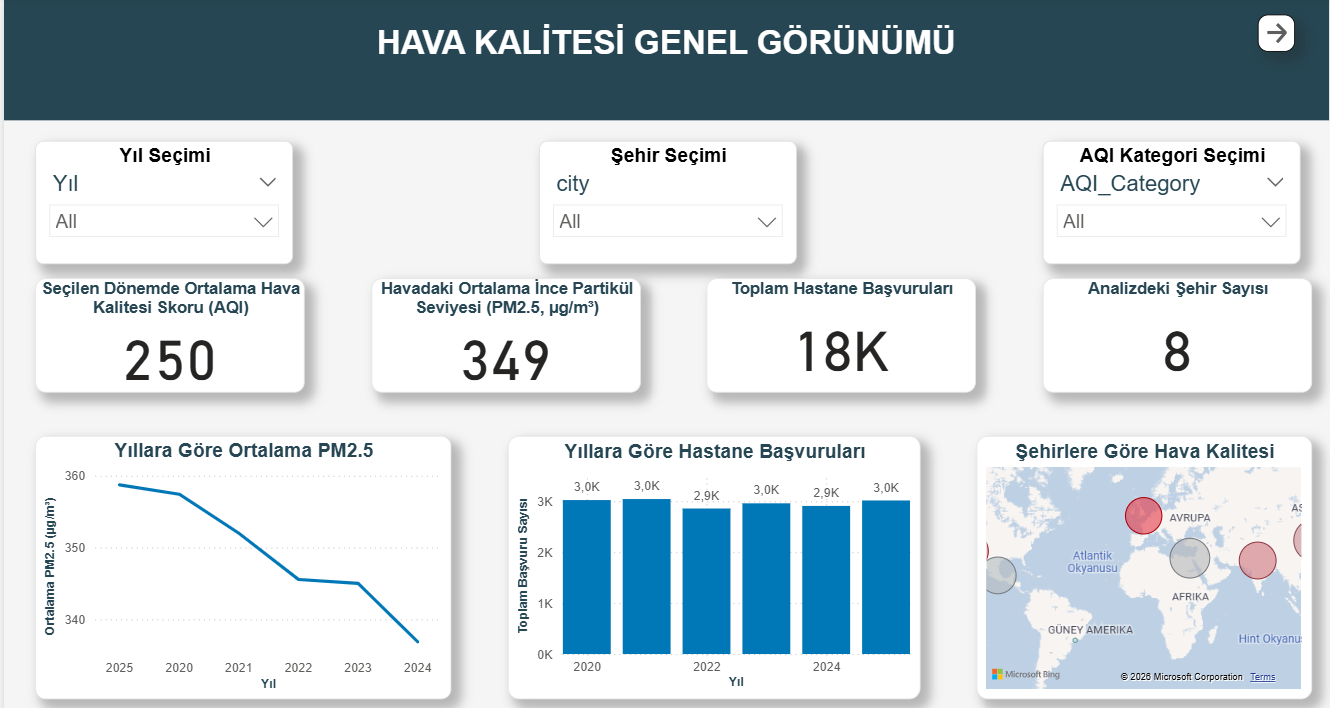

What the dashboard file says about the page in this screenshot:
{"tool":"powerbi","page":{"name":"Genel Bakış","canvas":[1280,720],"ordinal":0},"visuals":[{"type":"shape","box":[0,0,1278.9,119],"z":0},{"type":"textbox","box":[0,0,1278.3,117.4],"z":1000},{"type":"slicer","title":"Yıl Seçimi","fields":{"Values":["DimDate.Yıl"]},"box":[30.5,138.4,249.1,119],"z":2000},{"type":"slicer","title":"Şehir Seçimi","fields":{"Values":["DimLocation.city"]},"box":[516.3,138.4,249.1,119],"z":3000},{"type":"slicer","title":"AQI Kategori Seçimi","fields":{"Values":["DimAQICategory.AQI_Category"]},"box":[1002.1,138.4,249.1,119],"z":4000},{"type":"card","title":"Seçilen Dönemde Ortalama Hava Kalitesi Skoru (AQI)","fields":{"Values":["air_quality_health_dataset.Avg AQI"]},"box":[30.5,271.3,260.2,110.7],"z":5000},{"type":"card","title":"Havadaki Ortalama İnce Partikül Seviyesi (PM2.5, µg/m³)","fields":{"Values":["air_quality_health_dataset.Avg PM2_5"]},"box":[354.3,271.3,260.2,110.7],"z":6000},{"type":"card","title":"Toplam Hastane Başvuruları","fields":{"Values":["air_quality_health_dataset.Total Hospital Admissions"]},"box":[678.2,271.3,260.2,110.7],"z":7000},{"type":"card","title":"Analizdeki Şehir Sayısı","fields":{"Values":["air_quality_health_dataset.Distinct City Count"]},"box":[1002.1,271.3,260.2,110.7],"z":8000},{"type":"lineChart","title":"Yıllara Göre Ortalama PM2.5","fields":{"Category":["DimDate.Yıl"],"Y":["air_quality_health_dataset.Avg PM2_5"]},"box":[30.5,423.5,401.4,254.7],"z":9000},{"type":"clusteredColumnChart","title":"Yıllara Göre Hastane Başvuruları","fields":{"Category":["DimDate.Yıl"],"Y":["air_quality_health_dataset.Total Hospital Admissions"]},"box":[485.8,423.5,398.6,254.7],"z":10000},{"type":"map","title":"Şehirlere Göre Hava Kalitesi","fields":{"Category":["DimLocation.city"],"Size":["air_quality_health_dataset.Avg AQI"]},"box":[938.4,423.5,323.9,254.7],"z":11000},{"type":"actionButton","box":[1210.1,16.9,36,36],"z":12000}]}

Visuals, with their boxes on the page's 1280x720 design canvas (x1, y1, x2, y2). These are canvas units, not pixel positions in the 1330x708 screenshot, which may show the page scaled, cropped or inside an application window:
shape: (0, 0, 1279, 119)
textbox: (0, 0, 1278, 117)
"Yıl Seçimi" slicer: (30, 138, 280, 257)
"Şehir Seçimi" slicer: (516, 138, 765, 257)
"AQI Kategori Seçimi" slicer: (1002, 138, 1251, 257)
"Seçilen Dönemde Ortalama Hava Kalitesi Skoru (AQI)" card: (30, 271, 291, 382)
"Havadaki Ortalama İnce Partikül Seviyesi (PM2.5, µg/m³)" card: (354, 271, 614, 382)
"Toplam Hastane Başvuruları" card: (678, 271, 938, 382)
"Analizdeki Şehir Sayısı" card: (1002, 271, 1262, 382)
"Yıllara Göre Ortalama PM2.5" lineChart: (30, 424, 432, 678)
"Yıllara Göre Hastane Başvuruları" clusteredColumnChart: (486, 424, 884, 678)
"Şehirlere Göre Hava Kalitesi" map: (938, 424, 1262, 678)
actionButton: (1210, 17, 1246, 53)
